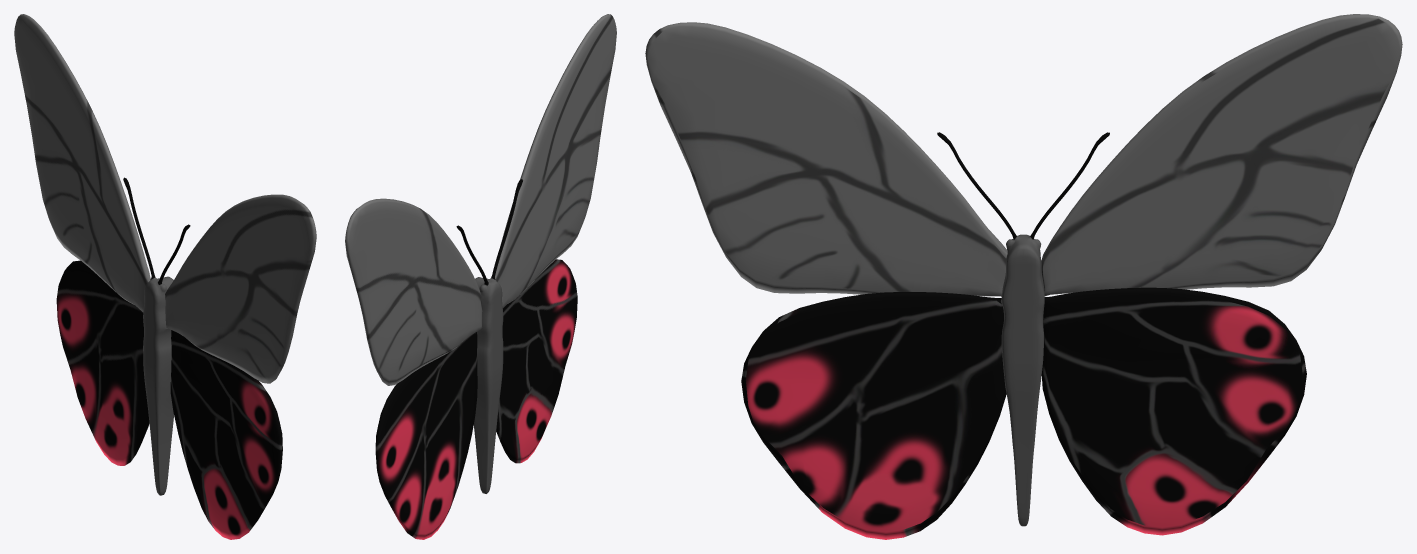
Rendered from ButterflyModel_PapilioProtenor.fbx.
3 renders of one model, left to right at view 1: azimuth 30°, elevation 25°; view 2: azimuth 150°, elevation 25°; view 3: azimuth 270°, elevation 25°, orthographic. The views are drawn at different scales.
Parts seen in each view (by area): view 1: polySurface4, polySurface2, polySurface3; view 2: polySurface2, polySurface4, polySurface3; view 3: polySurface2, polySurface4, polySurface3.
Part boxes in pixels (bbox=[...]): polySurface4: bbox=[165, 194, 316, 539]; polySurface2: bbox=[14, 14, 150, 465]; polySurface3: bbox=[123, 177, 190, 495]; polySurface2: bbox=[345, 198, 482, 539]; polySurface4: bbox=[495, 14, 616, 463]; polySurface3: bbox=[456, 179, 522, 493]; polySurface2: bbox=[1041, 14, 1402, 535]; polySurface4: bbox=[645, 22, 1007, 539]; polySurface3: bbox=[937, 132, 1109, 526].
Size of the model in its own units: 0.8617 by 11 by 14.57.
